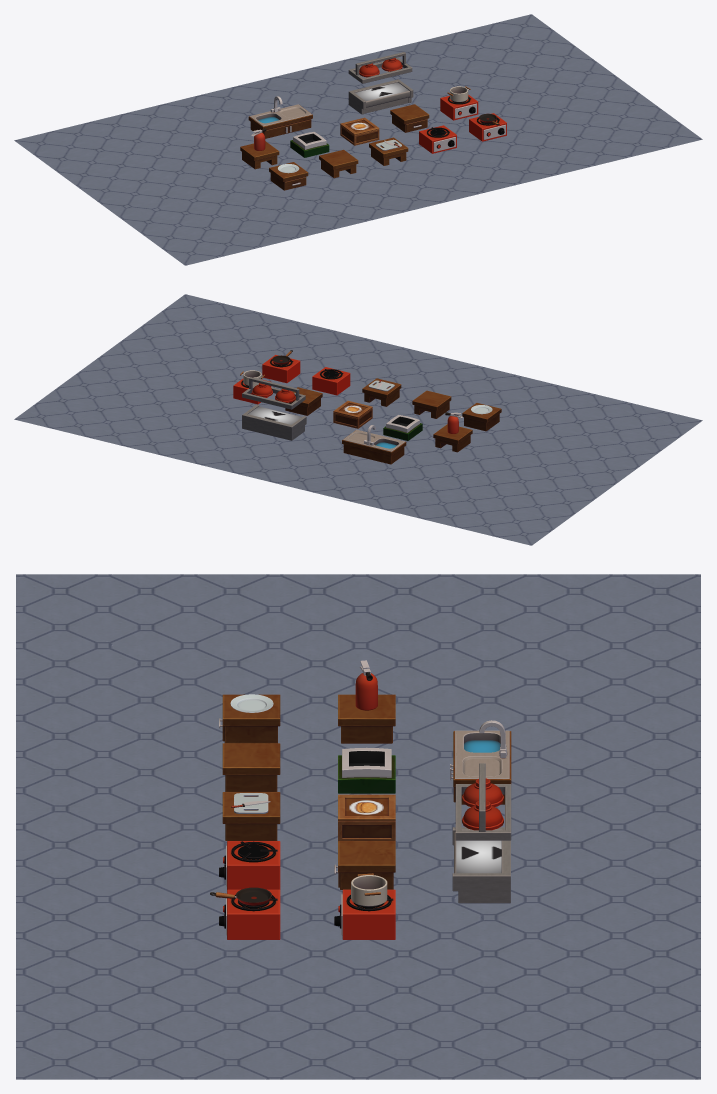
Rendered from overcooked_kitchen_assets.gltf.
3 views of the same model, one above another, from view 1: azimuth 30°, elevation 25°; view 2: azimuth 150°, elevation 25°; view 3: azimuth 270°, elevation 25° (orthographic). The views are drawn at different scales.
Visible parts, largest first — view 1: Object_2, Object_4, Object_4.001, Object_3.006, Object_3.007, Object_3.008, Object_3.003, Object_3.004, Object_3, Object_3.009, Object_3.001, Object_3.002 (+1 smaller); view 2: Object_2, Object_4, Object_4.001, Object_3.007, Object_3.006, Object_3.003, Object_3.004, Object_3, Object_3.001, Object_3.002, Object_3.005, Object_3.008; view 3: Object_2, Object_4, Object_4.001, Object_3.003, Object_3.007, Object_3.006, Object_3.004, Object_3.001, Object_3, Object_3.008, Object_3.009, Object_3.002 (+3 smaller).
Boxes of the visible parts, x1,y1,x2,y2 form: Object_2: (14, 14, 702, 265); Object_4: (348, 52, 413, 114); Object_4.001: (248, 96, 312, 138); Object_3.006: (340, 117, 379, 145); Object_3.007: (419, 125, 456, 153); Object_3.008: (390, 104, 429, 132); Object_3.003: (319, 149, 358, 178); Object_3.004: (290, 132, 329, 157); Object_3: (469, 113, 506, 141); Object_3.009: (440, 94, 478, 120); Object_3.001: (240, 141, 279, 169); Object_3.002: (269, 162, 308, 190); Object_2: (14, 294, 702, 545); Object_4: (242, 377, 306, 440); Object_4.001: (342, 425, 406, 464); Object_3.007: (312, 367, 350, 395); Object_3.006: (333, 400, 372, 428); Object_3.003: (412, 390, 451, 418); Object_3.004: (383, 415, 422, 440); Object_3: (262, 354, 300, 383); Object_3.001: (433, 424, 472, 452); Object_3.002: (462, 403, 501, 431); Object_3.005: (362, 378, 401, 406); Object_3.008: (285, 387, 322, 415); Object_2: (16, 574, 700, 1079); Object_4: (452, 763, 511, 903); Object_4.001: (450, 720, 511, 804); Object_3.003: (222, 743, 280, 791); Object_3.007: (219, 841, 280, 889); Object_3.006: (338, 794, 395, 840); Object_3.004: (338, 747, 395, 793); Object_3.001: (338, 694, 395, 743); Object_3: (219, 889, 280, 939); Object_3.008: (334, 841, 395, 889); Object_3.009: (334, 889, 395, 939); Object_3.002: (219, 694, 280, 743).
Bounding box in the file's own units: 41.42 × 3.52 × 23.73.
Materials: 4 (4 with a texture image).
